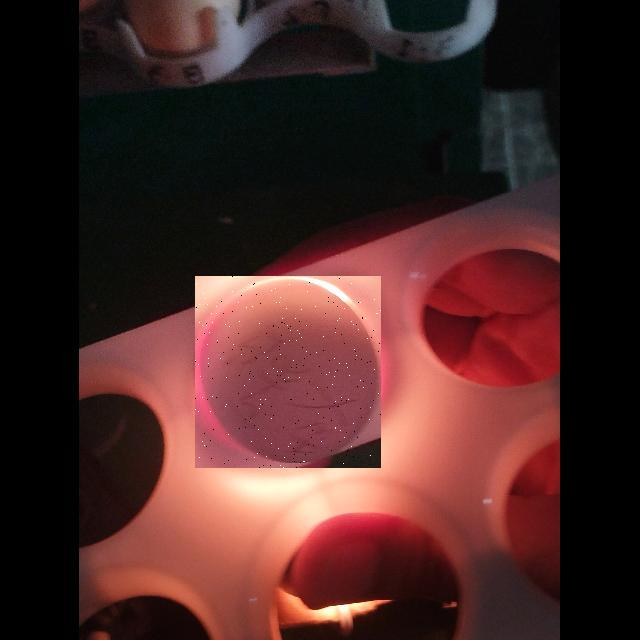Fertile: (195, 276, 381, 468)
